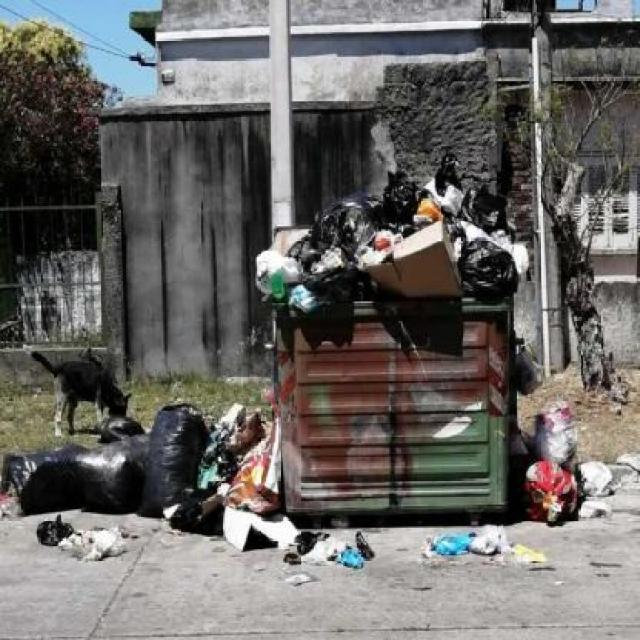garbage: (249, 159, 542, 318), (5, 414, 270, 564), (243, 513, 560, 589), (505, 325, 602, 540)
